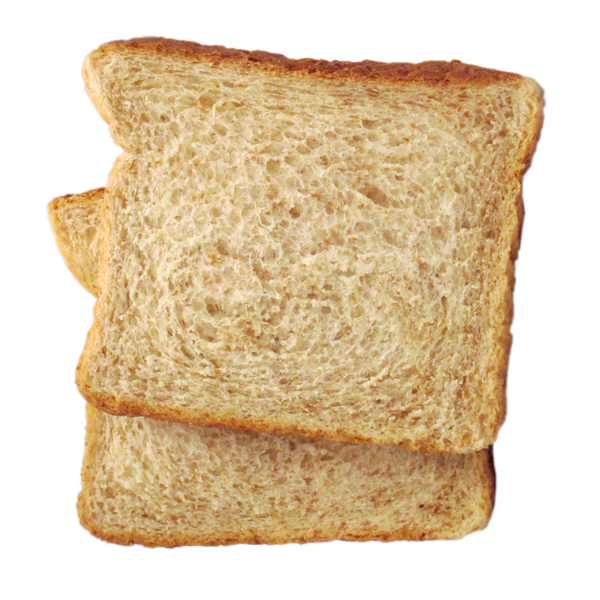slice of bread: (89, 28, 552, 451), (41, 191, 504, 539)
